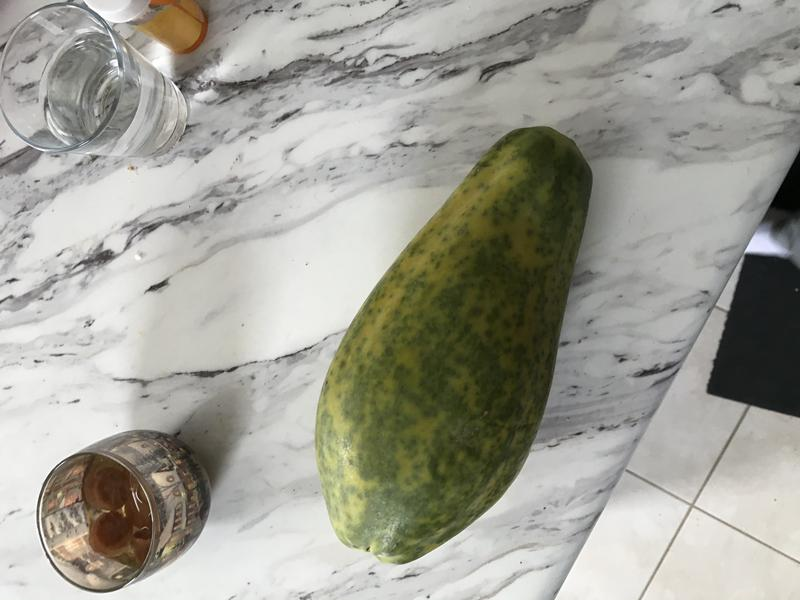papaya: (310, 117, 600, 578)
